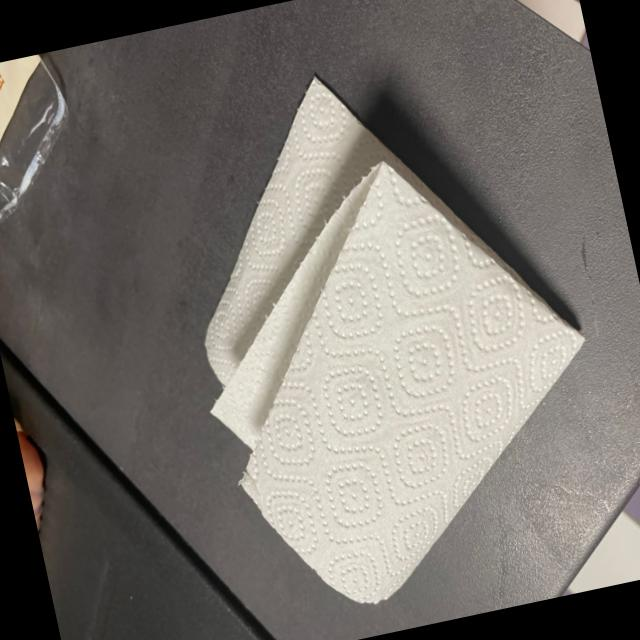organic waste: (146, 32, 638, 637)
